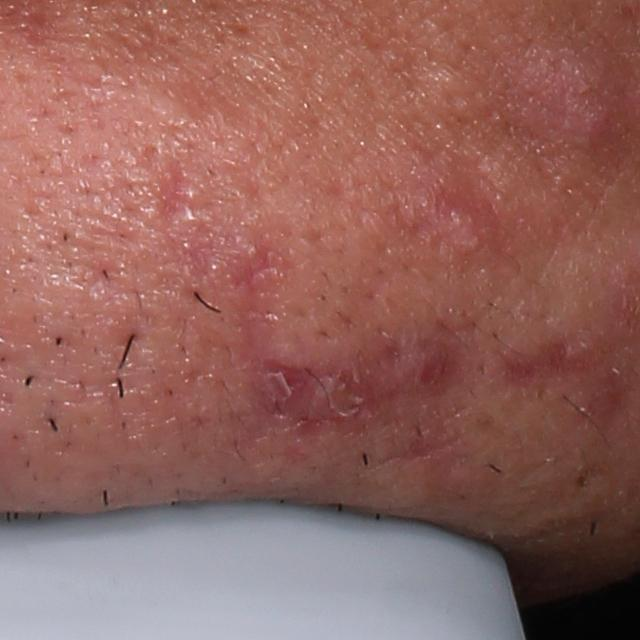atrophic_scar: (226, 234, 289, 363), (157, 156, 193, 237)
nodule: (480, 30, 636, 179), (247, 335, 460, 426)
